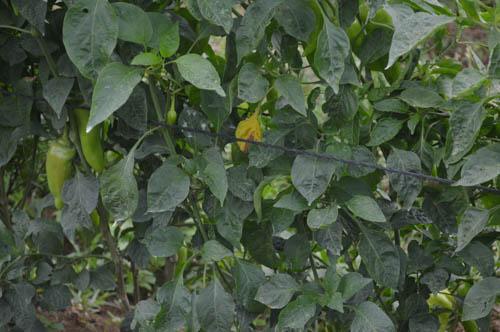ChiliPepper: (46, 145, 77, 212), (74, 107, 106, 168)
